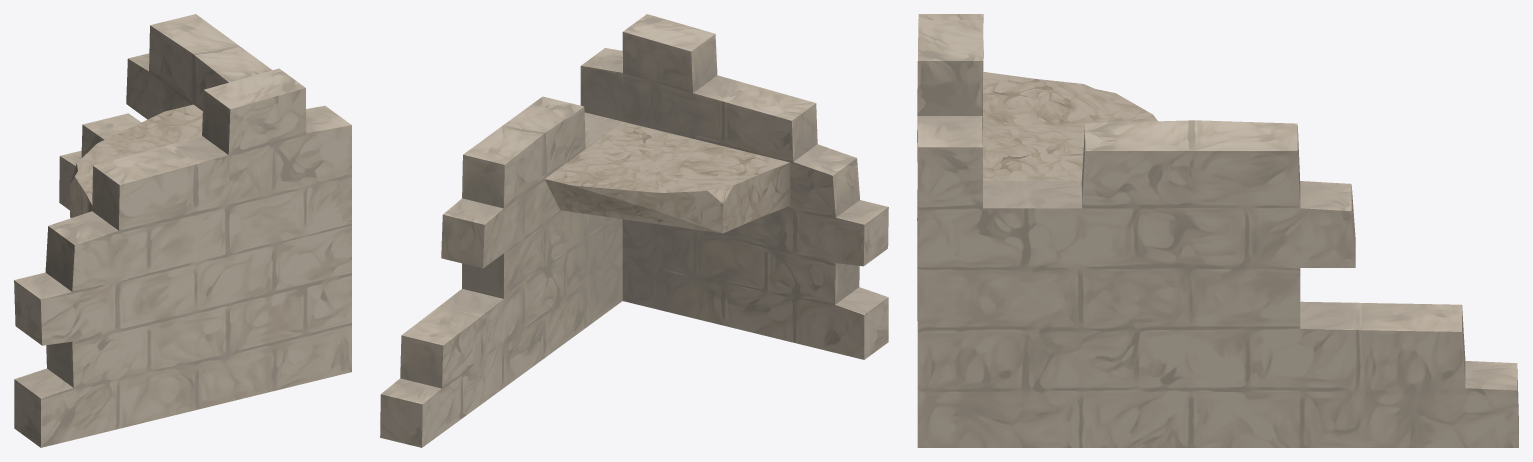
File: sufit_2.obj
3 renders of one model, left to right at view 1: azimuth 30°, elevation 25°; view 2: azimuth 150°, elevation 25°; view 3: azimuth 270°, elevation 25°, orthographic. The views are drawn at different scales.
Visible parts, largest first — view 1: Vert.011; view 2: Vert.011; view 3: Vert.011.
Part boxes in pixels (x1,y1,x2,y2): Vert.011: (14, 14, 351, 447); Vert.011: (380, 14, 888, 447); Vert.011: (917, 14, 1518, 447).
Bounding box in the file's own units: 28.15 × 25.53 × 38.73.
2 materials, 2 textured.
